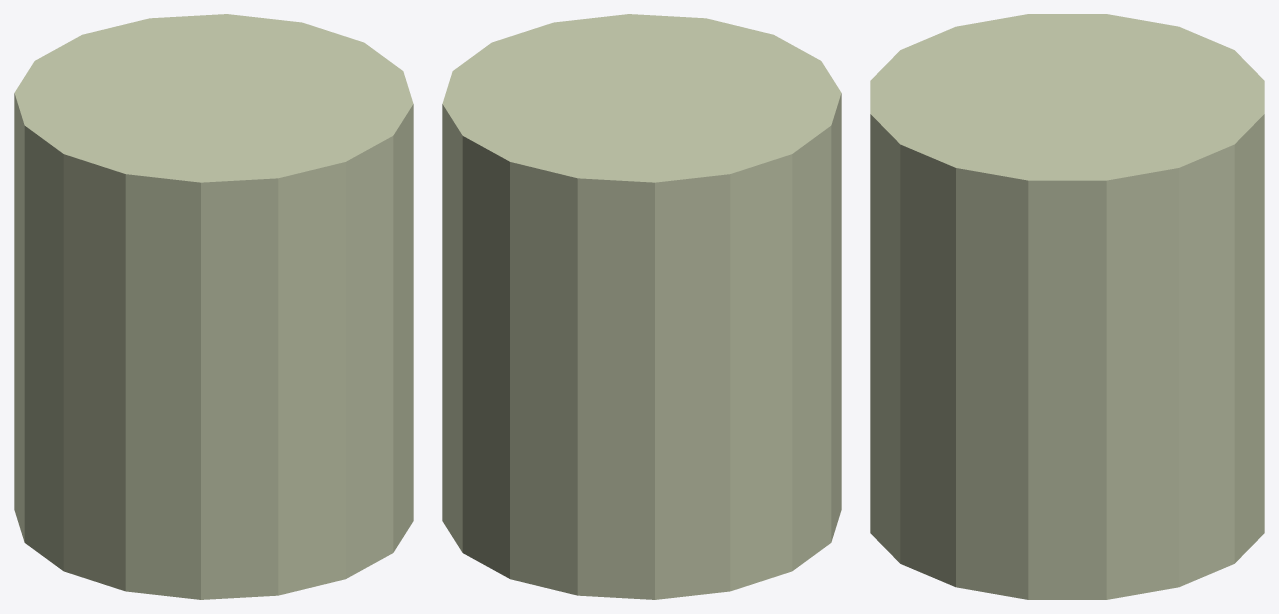
The model's file is Eridani_Crew_2_Collider.obj.
3 renders of one model, left to right at view 1: azimuth 30°, elevation 25°; view 2: azimuth 150°, elevation 25°; view 3: azimuth 270°, elevation 25°, orthographic.
Parts seen in each view (by area): view 1: Eridani_Crew_2_Collider; view 2: Eridani_Crew_2_Collider; view 3: Eridani_Crew_2_Collider.
Part boxes in pixels (x1=…): Eridani_Crew_2_Collider: x1=14, y1=14, x2=413, y2=599; Eridani_Crew_2_Collider: x1=442, y1=14, x2=841, y2=599; Eridani_Crew_2_Collider: x1=870, y1=14, x2=1264, y2=599.
Bounding box in the file's own units: 2.5 × 2.93 × 2.5.
